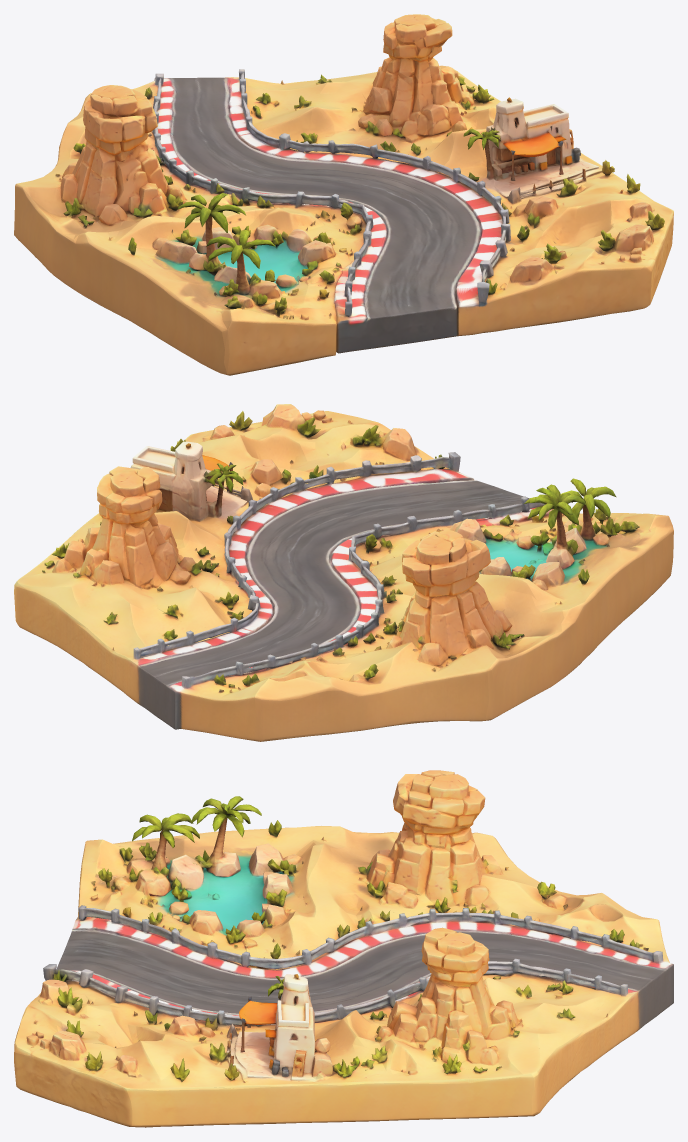
3 renders of one model, top to bottom at view 1: azimuth 30°, elevation 25°; view 2: azimuth 150°, elevation 25°; view 3: azimuth 270°, elevation 25°, orthographic. The views are drawn at different scales.
Visible parts, largest first — view 1: model; view 2: model; view 3: model.
Boxes of the visible parts, box(x1,y1,x2,y2) form: model: box(14, 14, 673, 375); model: box(14, 404, 673, 741); model: box(14, 770, 673, 1127).
Bounding box in the file's own units: 1.68 × 0.4681 × 1.9.
Materials: 1 (1 with a texture image).
